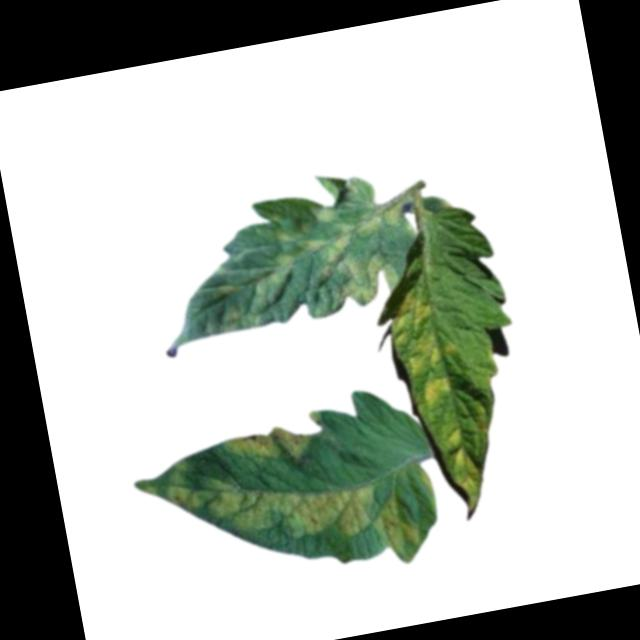Leaf_Mold: (160, 420, 425, 600), (314, 203, 420, 309), (222, 422, 313, 477), (442, 423, 488, 521), (399, 329, 461, 378), (382, 288, 437, 341), (252, 248, 298, 296), (414, 369, 456, 414), (298, 236, 324, 258)
